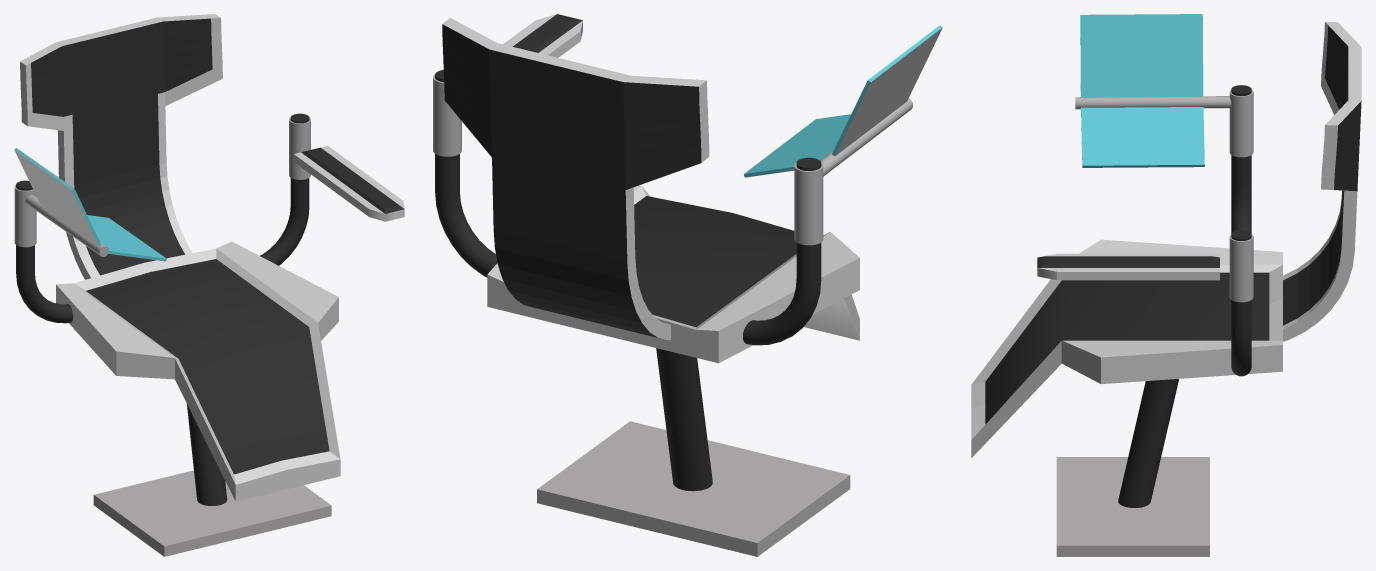
File: Mesh_Chair_m02_v01_RightyOpen.fbx
3 renders of one model, left to right at view 1: azimuth 30°, elevation 25°; view 2: azimuth 150°, elevation 25°; view 3: azimuth 270°, elevation 25°, orthographic. The views are drawn at different scales.
Parts seen in each view (by area): view 1: pCube1, pCube4, Stand1, pCylinder4 (×2), L_arm1, Laptop_top, pCylinder2, Laptop_bottom, R_arm_attach, pCylinder7, R_arm; view 2: pCube4, pCube1, Stand1, pCylinder4 (×2), pCylinder2, Laptop_top, Laptop_bottom, R_arm_attach, L_arm1, pCylinder7, R_arm; view 3: pCube1, Stand1, pCube4, Laptop_top, Laptop_bottom, L_arm1, pCylinder2, pCylinder4 (×2), R_arm, pCylinder7, R_arm_attach.
Boxes of the visible parts, <box> form: pCube1: <box>56,241,340,501</box>; pCube4: <box>20,14,222,279</box>; Stand1: <box>93,470,331,556</box>; pCylinder4 (×2): <box>16,113,309,323</box>; L_arm1: <box>294,146,404,221</box>; Laptop_top: <box>14,148,101,245</box>; pCylinder2: <box>187,404,227,505</box>; Laptop_bottom: <box>87,215,166,261</box>; R_arm_attach: <box>14,185,36,247</box>; pCylinder7: <box>289,117,310,179</box>; R_arm: <box>25,195,109,256</box>; pCube4: <box>442,18,709,340</box>; pCube1: <box>487,185,859,363</box>; Stand1: <box>537,421,850,556</box>; pCylinder4 (×2): <box>435,70,821,345</box>; pCylinder2: <box>656,348,712,491</box>; Laptop_top: <box>832,25,942,155</box>; Laptop_bottom: <box>744,114,850,177</box>; R_arm_attach: <box>794,163,823,245</box>; L_arm1: <box>503,14,582,57</box>; pCylinder7: <box>433,74,461,156</box>; R_arm: <box>820,98,912,176</box>; pCube1: <box>971,239,1282,457</box>; Stand1: <box>1056,457,1209,556</box>; pCube4: <box>1283,21,1361,341</box>; Laptop_top: <box>1080,14,1203,97</box>; Laptop_bottom: <box>1081,107,1204,167</box>; L_arm1: <box>1037,253,1219,280</box>; pCylinder2: <box>1118,379,1178,507</box>; pCylinder4 (×2): <box>1231,85,1251,376</box>; R_arm: <box>1075,96,1231,109</box>; pCylinder7: <box>1229,234,1253,302</box>; R_arm_attach: <box>1229,89,1253,157</box>.
Bounding box in the file's own units: 1.17 × 1.41 × 1.13.
